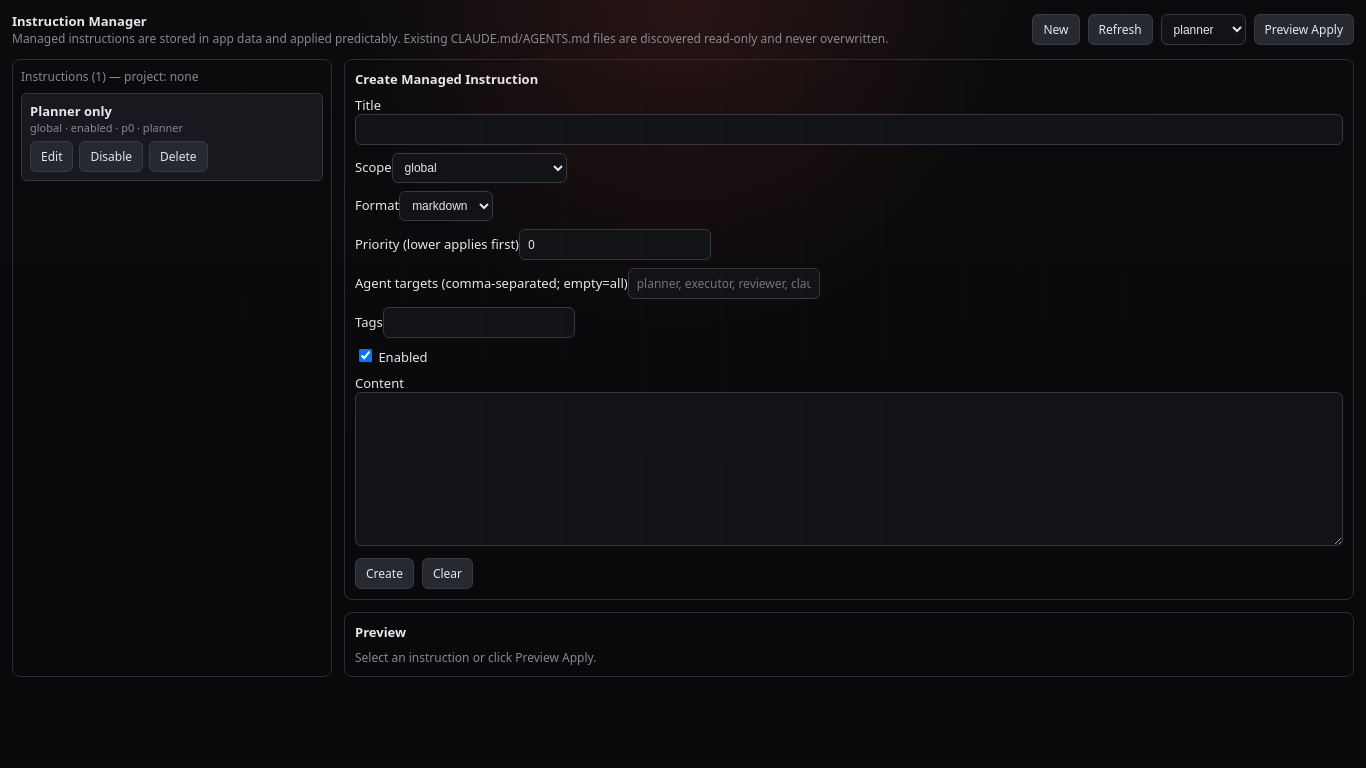
Test: InstructionManager › previews planner vs executor targeting
Expected: the text "Planner only" is shown, [30,102,112,120]
Click the button "Preview Apply": (1304, 30) [1254,14,1354,45]
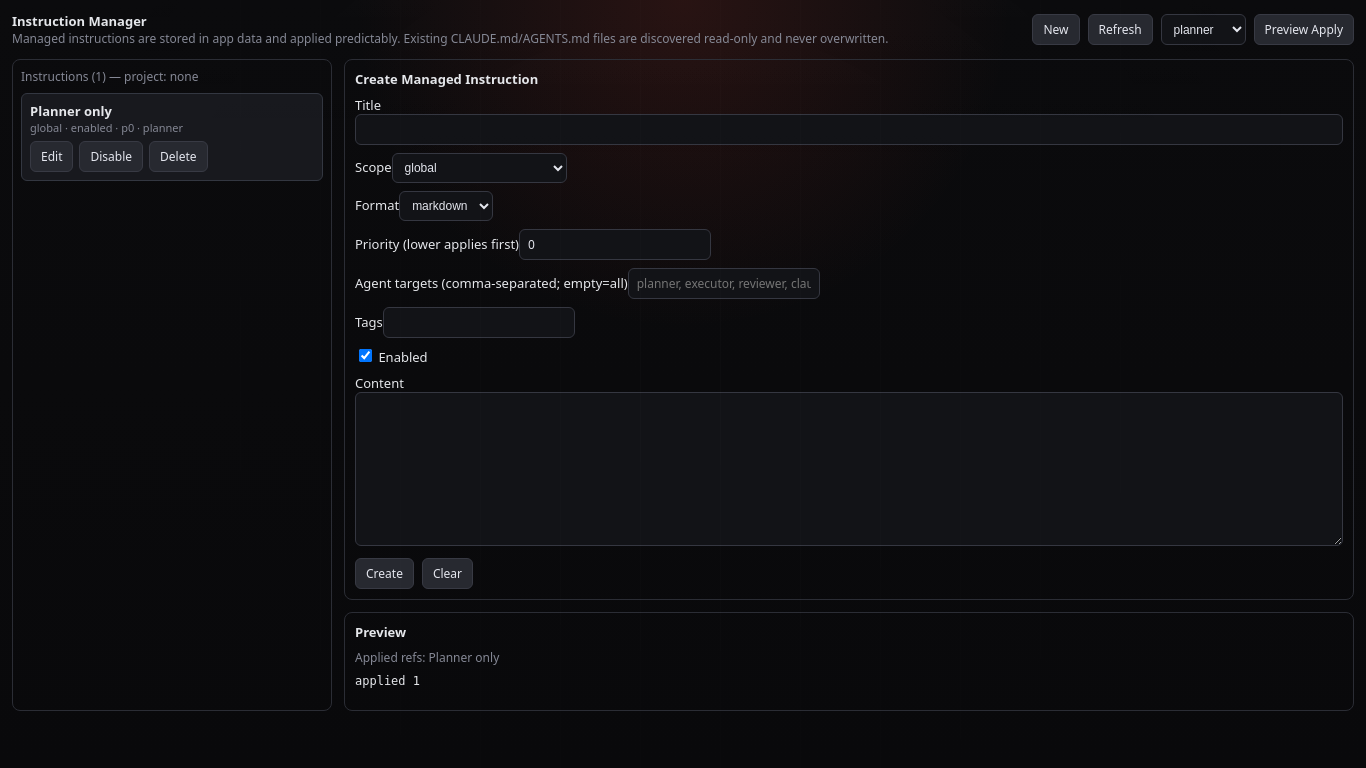
Result: the text "Applied refs: Planner only" is shown at [355,649,499,666]
Result: the text "applied 1" is shown at [355,674,420,688]
Select "executor" in the dropdown titled "Agent stage to preview": (1203, 30) [1161,14,1246,45]
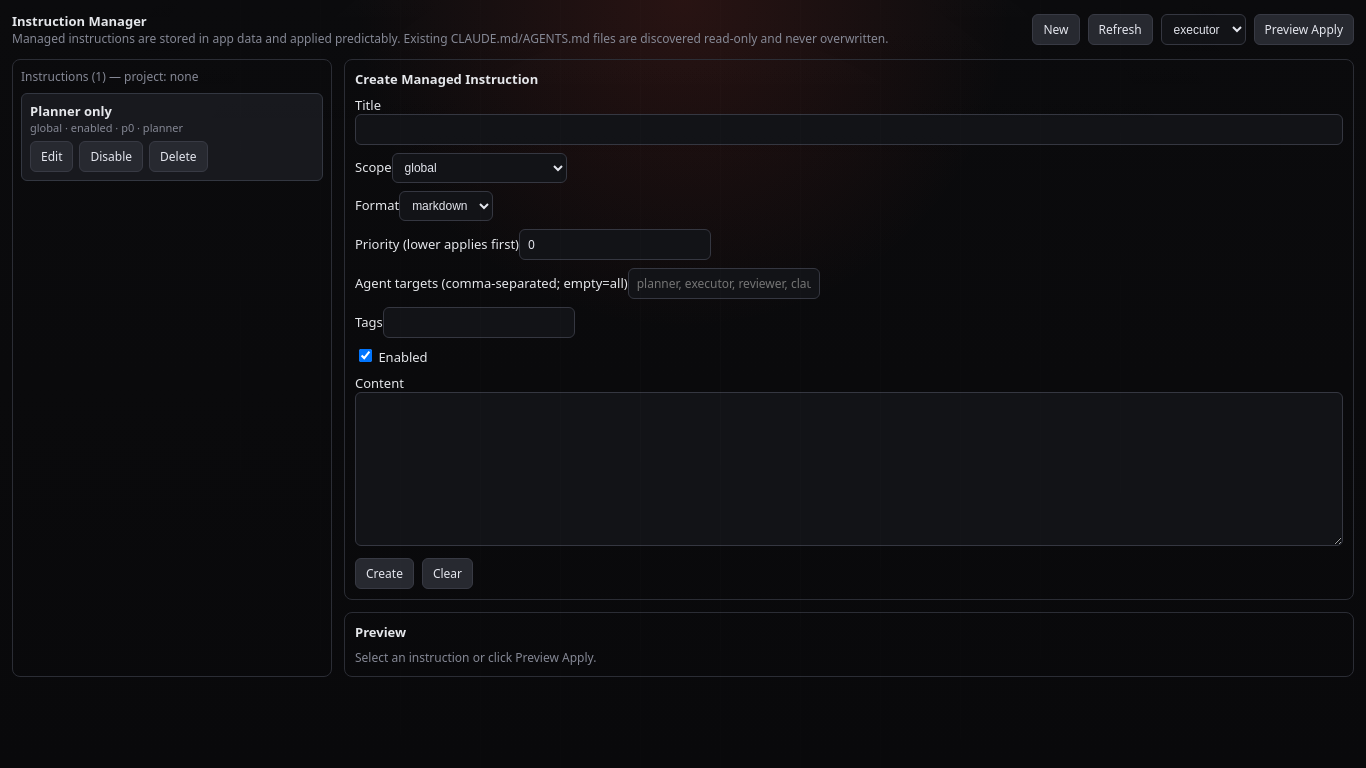
Click the button "Preview Apply": (1304, 30) [1254,14,1354,45]
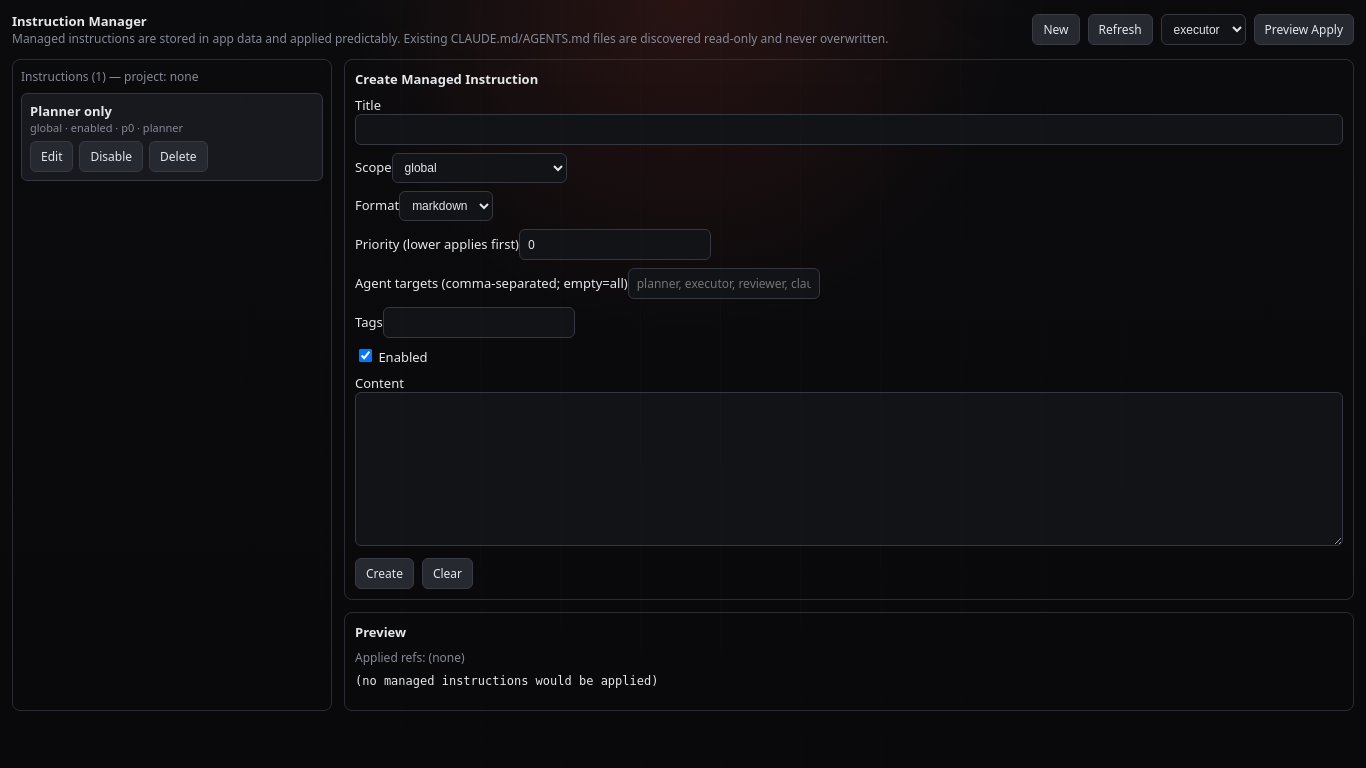
Result: the text "Applied refs: (none)" is shown at [355,649,465,666]
Result: the text "(no managed instructions would be applied)" is shown at [355,674,658,688]
